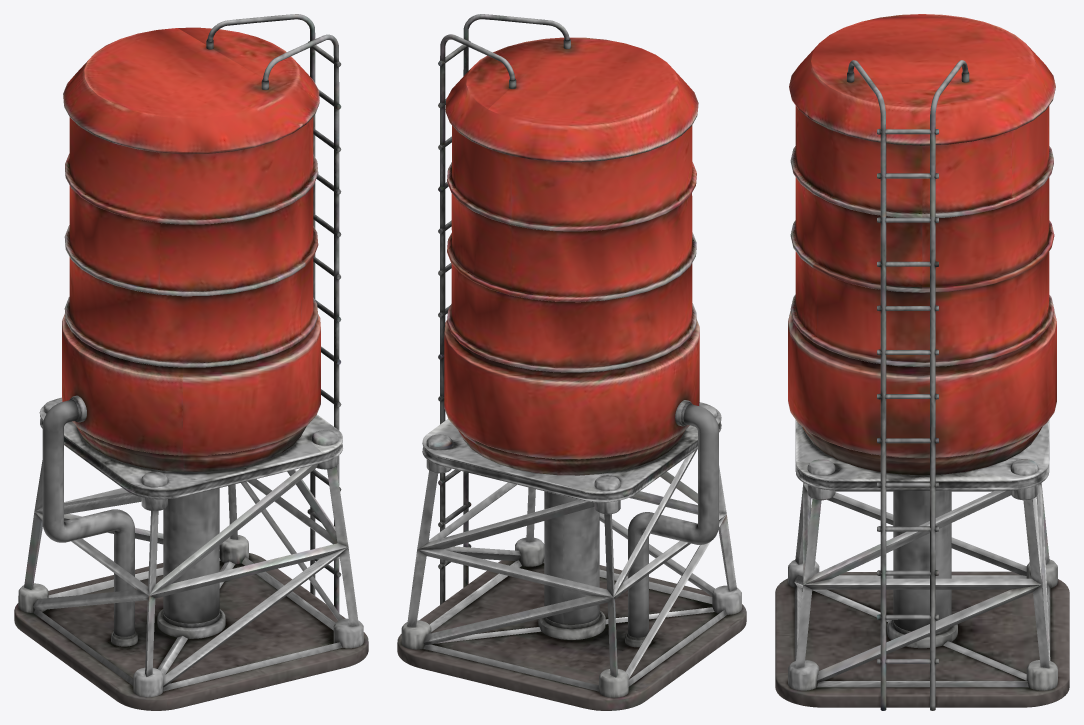
File: water_tank_1.glb
3 views of the same model, side by side, from view 1: azimuth 30°, elevation 25°; view 2: azimuth 150°, elevation 25°; view 3: azimuth 270°, elevation 25° (orthographic). The views are drawn at different scales.
Visible parts, largest first — view 1: Object_2; view 2: Object_2; view 3: Object_2.
Boxes of the visible parts, left/top/right/bottom form: Object_2: left=14, top=14, right=368, bottom=710; Object_2: left=397, top=14, right=746, bottom=710; Object_2: left=775, top=14, right=1069, bottom=710.
Bounding box in the file's own units: 0.4903 × 1 × 0.4362.
Materials: 1 (1 with a texture image).
